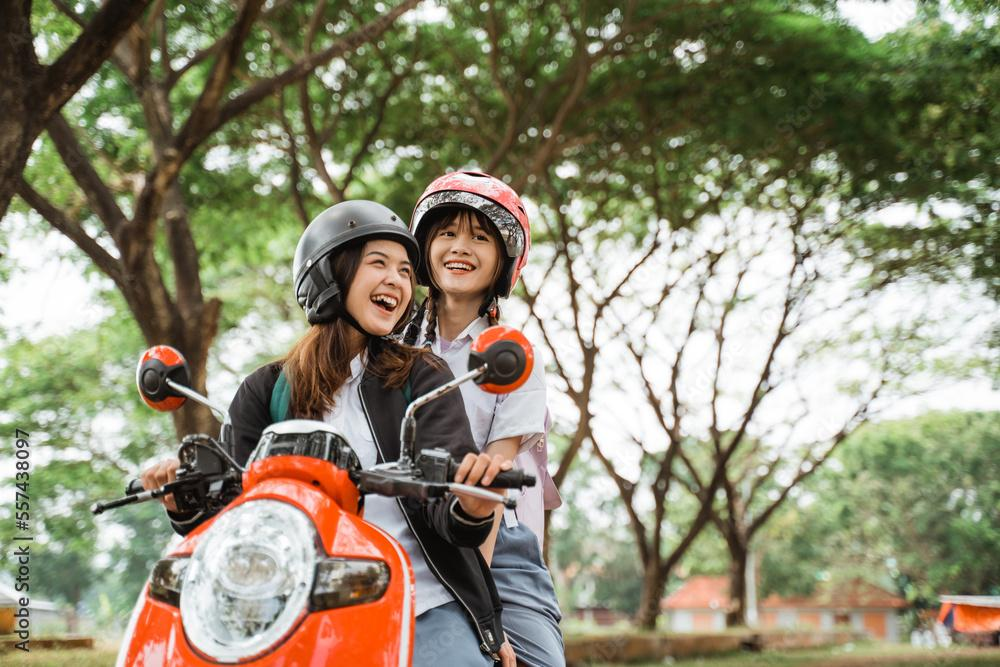helmet: (406, 169, 532, 319), (291, 198, 422, 341)
